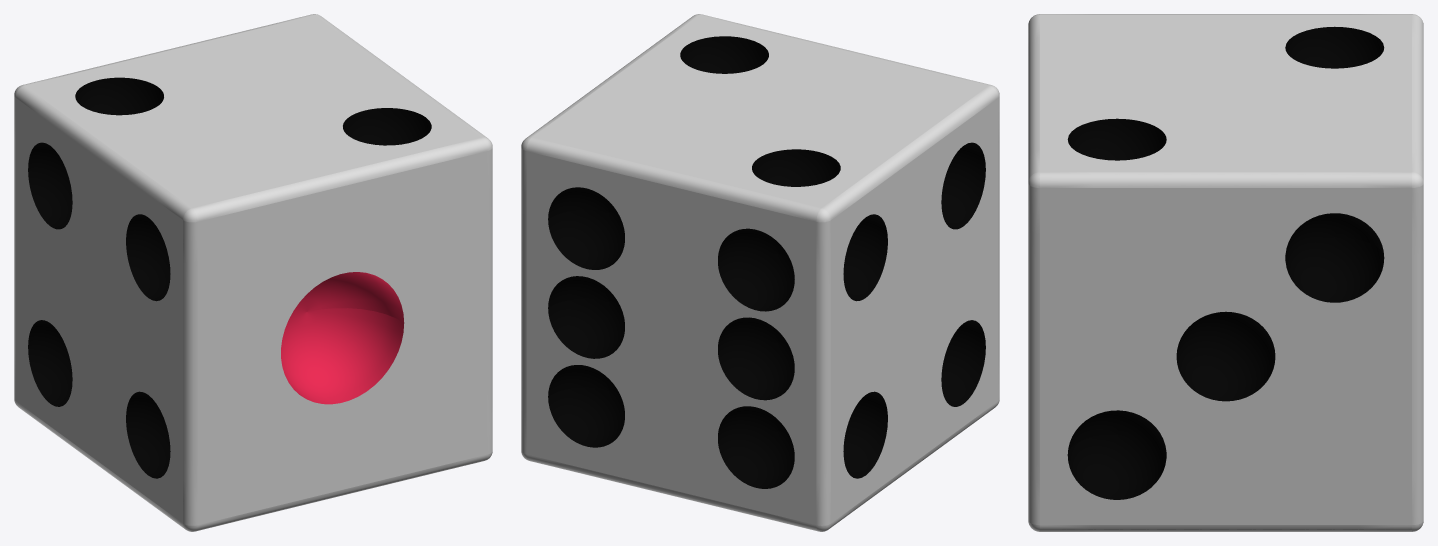
File: dice.gltf
3 renders of one model, left to right at view 1: azimuth 30°, elevation 25°; view 2: azimuth 150°, elevation 25°; view 3: azimuth 270°, elevation 25°, orthographic. The views are drawn at different scales.
Parts seen in each view (by area): view 1: オブジェクト_1.001; view 2: オブジェクト_1.001; view 3: オブジェクト_1.001.
Part boxes in pixels (bbox=[...]): オブジェクト_1.001: bbox=[14, 14, 492, 531]; オブジェクト_1.001: bbox=[521, 14, 999, 531]; オブジェクト_1.001: bbox=[1028, 14, 1423, 531].
Bounding box in the file's own units: 4 × 4 × 4.
